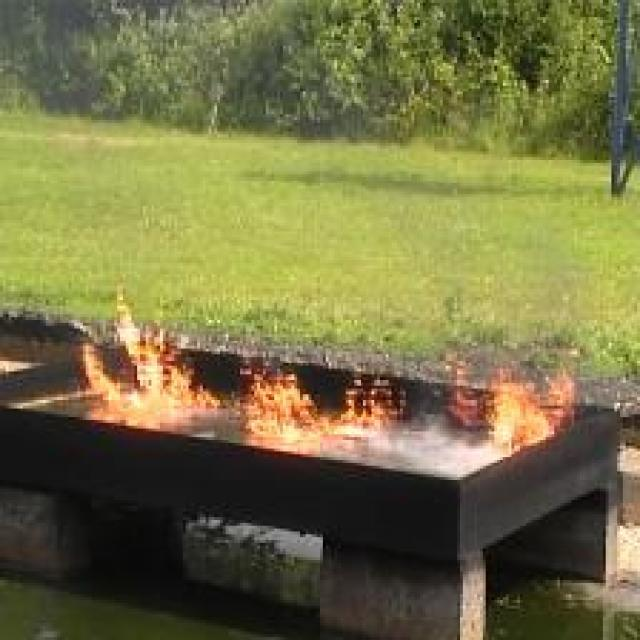Fire: (83, 286, 220, 418), (238, 358, 411, 442), (444, 354, 576, 457)
